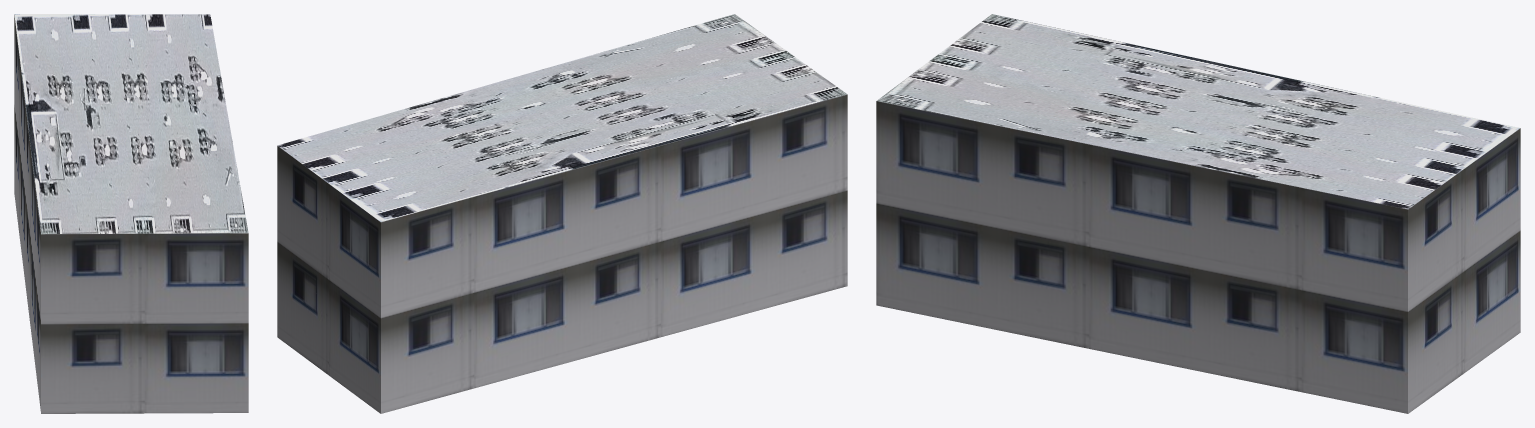
Rendered from ResTex__1007.fbx.
3 renders of one model, left to right at view 1: azimuth 30°, elevation 25°; view 2: azimuth 150°, elevation 25°; view 3: azimuth 270°, elevation 25°, orthographic. The views are drawn at different scales.
Parts seen in each view (by area): view 1: CityEngineMaterial_m, CityEngineMaterial_9_m; view 2: CityEngineMaterial_9_m, CityEngineMaterial_m; view 3: CityEngineMaterial_9_m, CityEngineMaterial_m.
Boxes of the visible parts, x1,y1,x2,y2 form: CityEngineMaterial_m: (14, 14, 248, 234); CityEngineMaterial_9_m: (14, 15, 248, 413); CityEngineMaterial_9_m: (277, 94, 847, 413); CityEngineMaterial_m: (277, 14, 847, 221); CityEngineMaterial_9_m: (876, 101, 1520, 413); CityEngineMaterial_m: (877, 14, 1519, 209).
Size of the model in its own units: 12.3 by 6 by 17.12.
2 materials, 2 textured.
